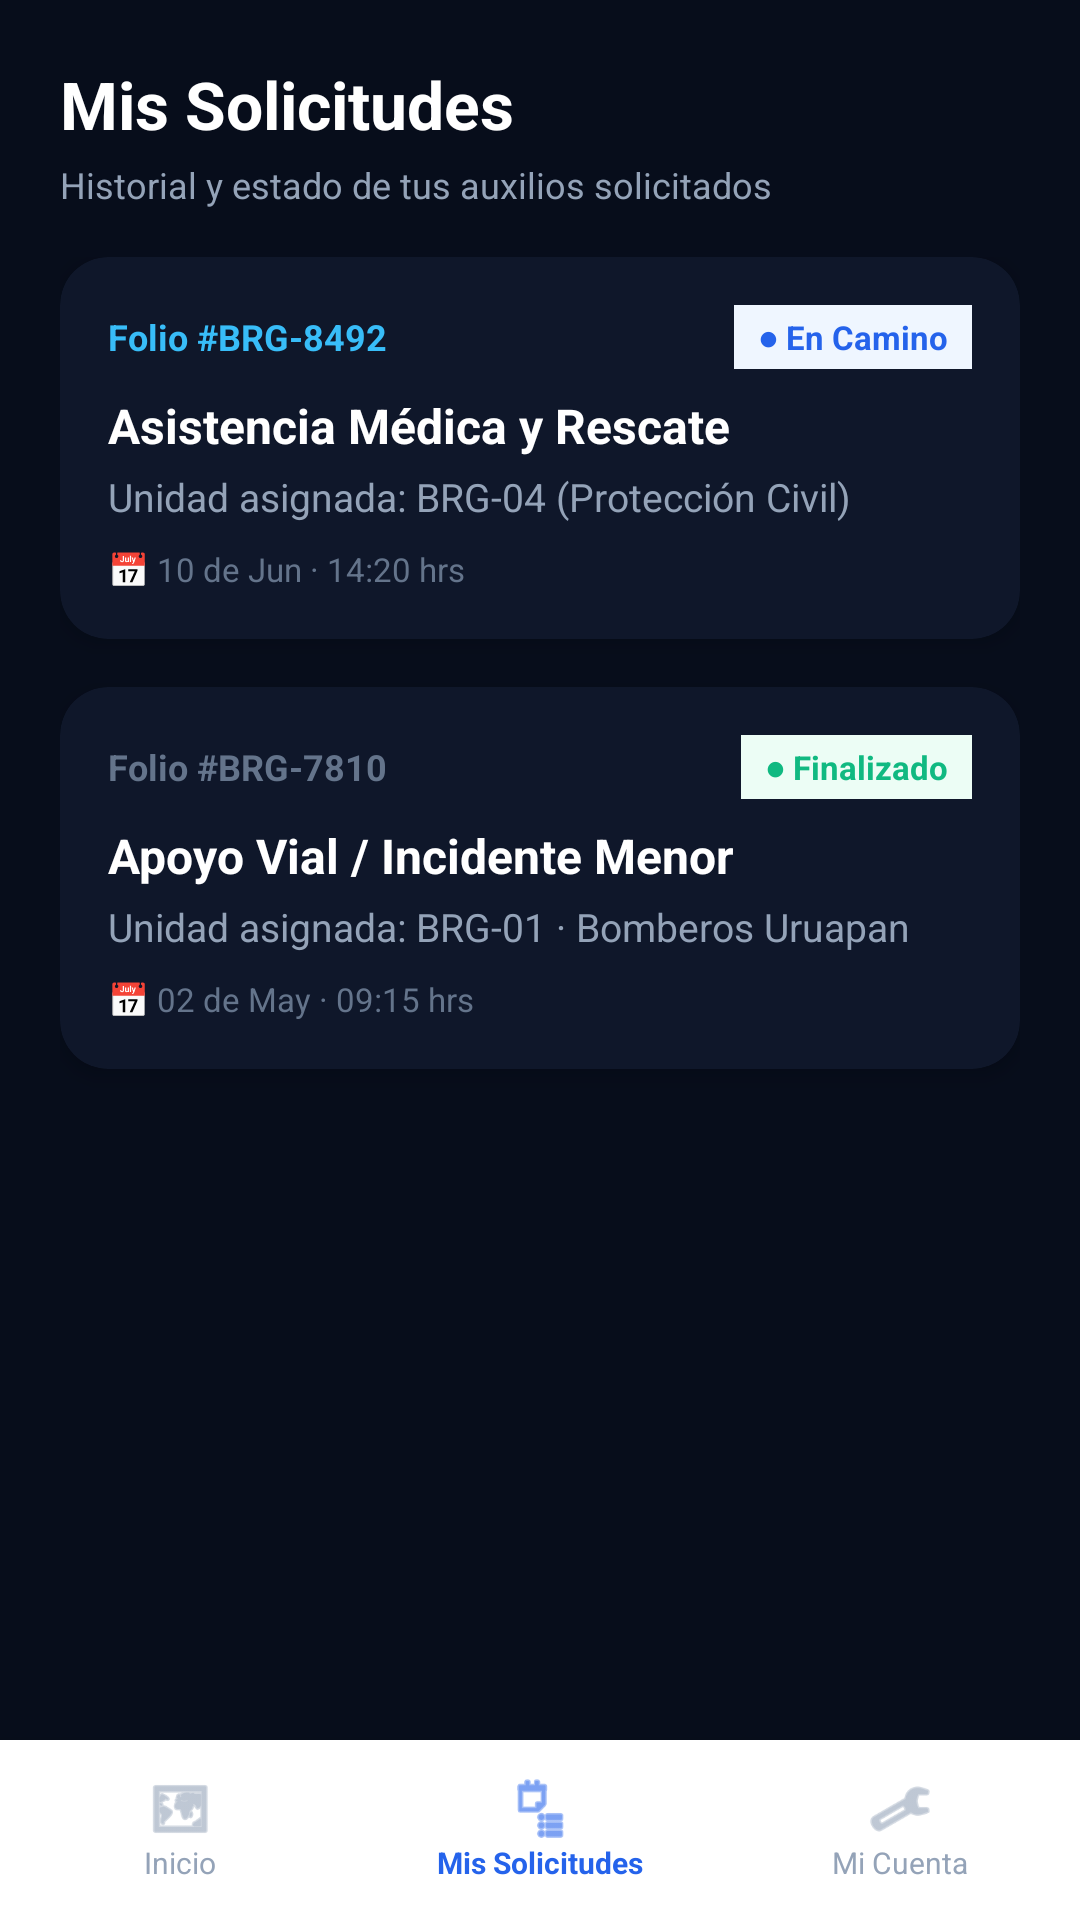

Point at icon controls on the screen. Image size 1080px x 1920px, points as point (x, y).
agenda: point (540, 1808)
manage: point (900, 1809)
mapmode: point (180, 1809)
